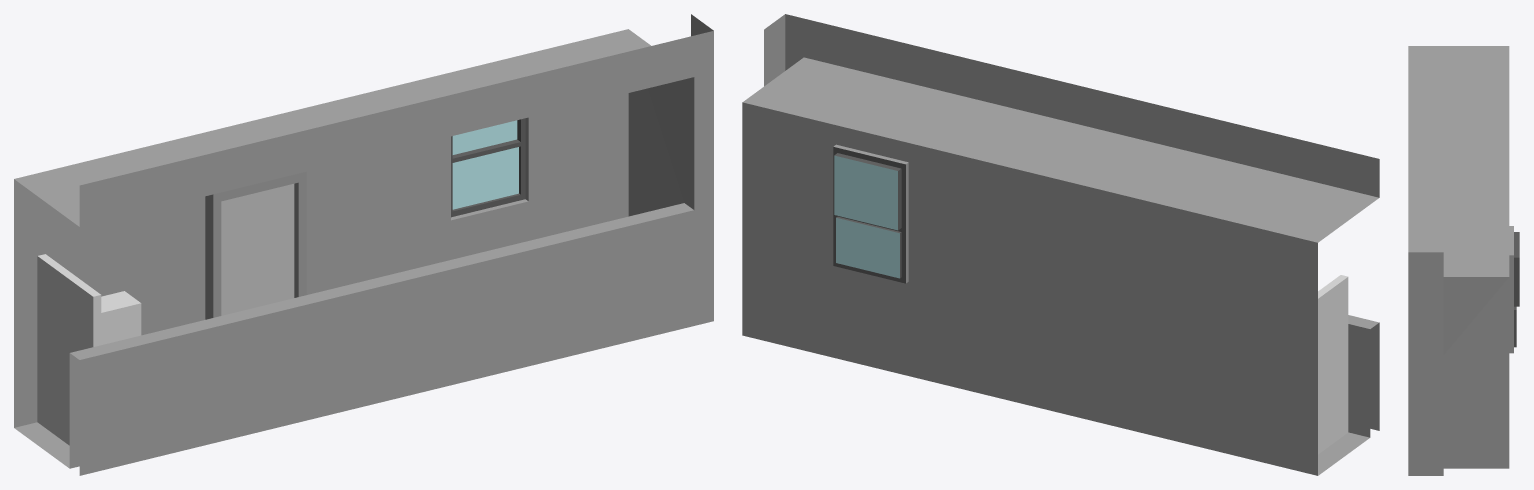
Rendered from BalconyRightWall.fbx.
3 views of the same model, side by side, from view 1: azimuth 30°, elevation 25°; view 2: azimuth 150°, elevation 25°; view 3: azimuth 270°, elevation 25° (orthographic). The views are drawn at different scales.
Visible parts, largest first — view 1: BalconyRightWall, Divider; view 2: BalconyRightWall, Divider; view 3: BalconyRightWall.
Boxes of the visible parts, x1,y1,x2,y2 form: BalconyRightWall: (14, 14, 713, 475); Divider: (37, 254, 101, 445); BalconyRightWall: (742, 14, 1379, 475); Divider: (1318, 275, 1348, 454); BalconyRightWall: (1408, 46, 1519, 475).
Size of the model in its own units: 800 by 350 by 158.
